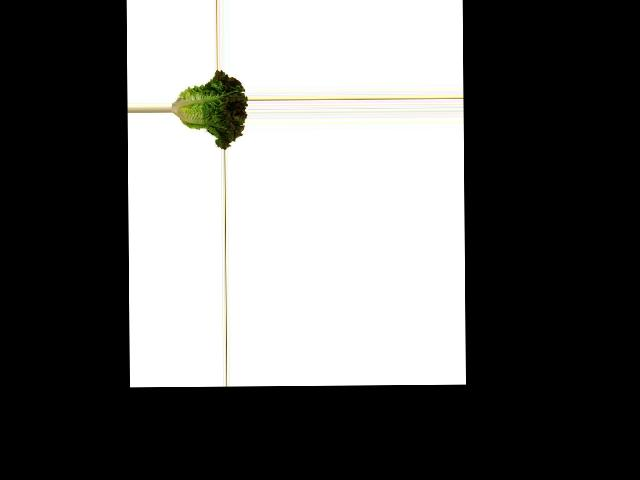lettuce: (170, 70, 247, 150)
